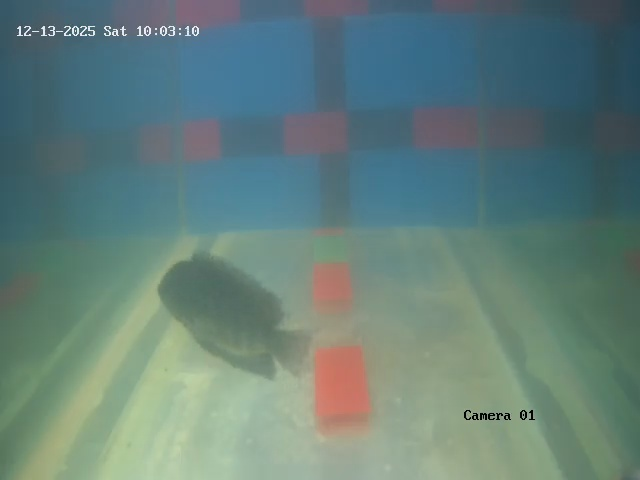fish: (159, 254, 288, 370)
